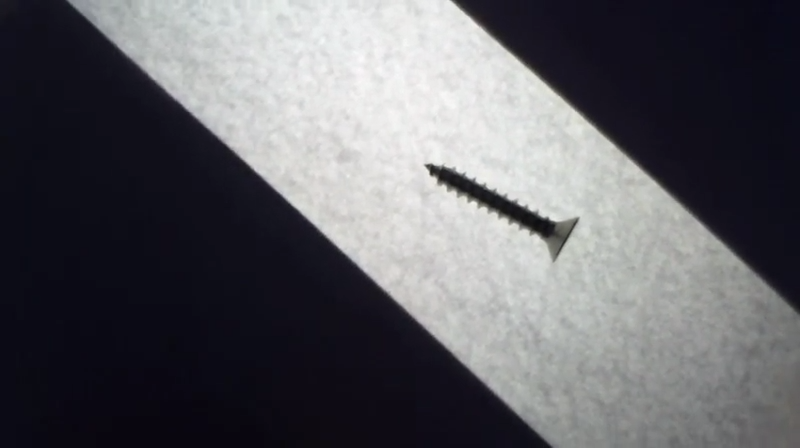S001: (420, 160, 584, 265)
